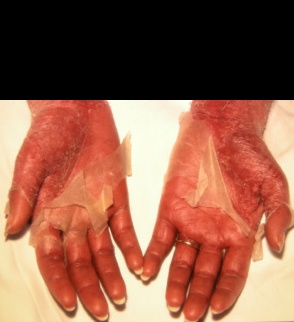SJS-TEN: (150, 81, 294, 272), (4, 96, 139, 284)
